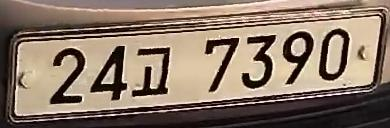0: (316, 26, 351, 82)
2: (45, 43, 88, 108)
3: (240, 33, 279, 90)
4: (90, 41, 130, 103)
7: (202, 34, 241, 93)
9: (280, 27, 317, 87)
고: (130, 43, 174, 100)
